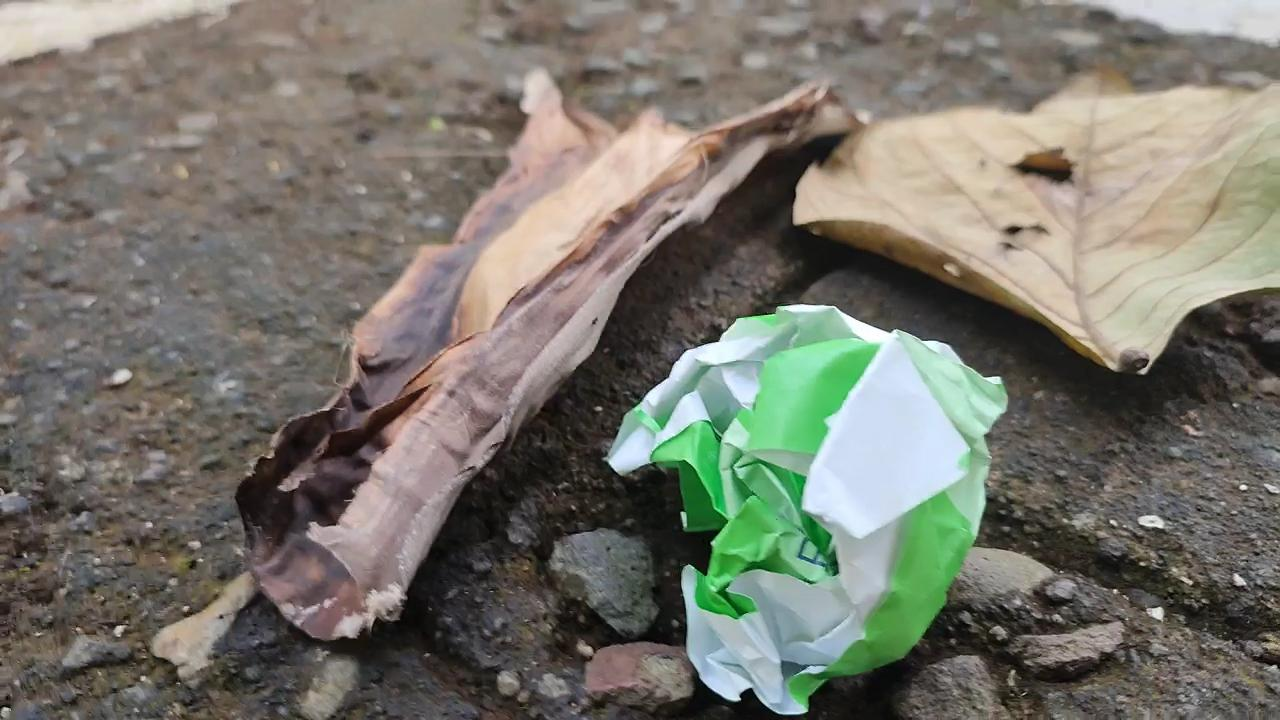Paper: (576, 297, 1033, 720)
